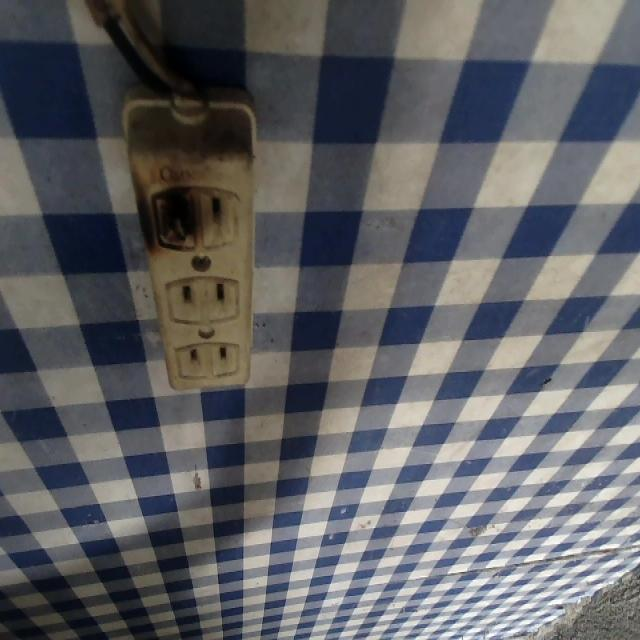-: (142, 176, 201, 253)
